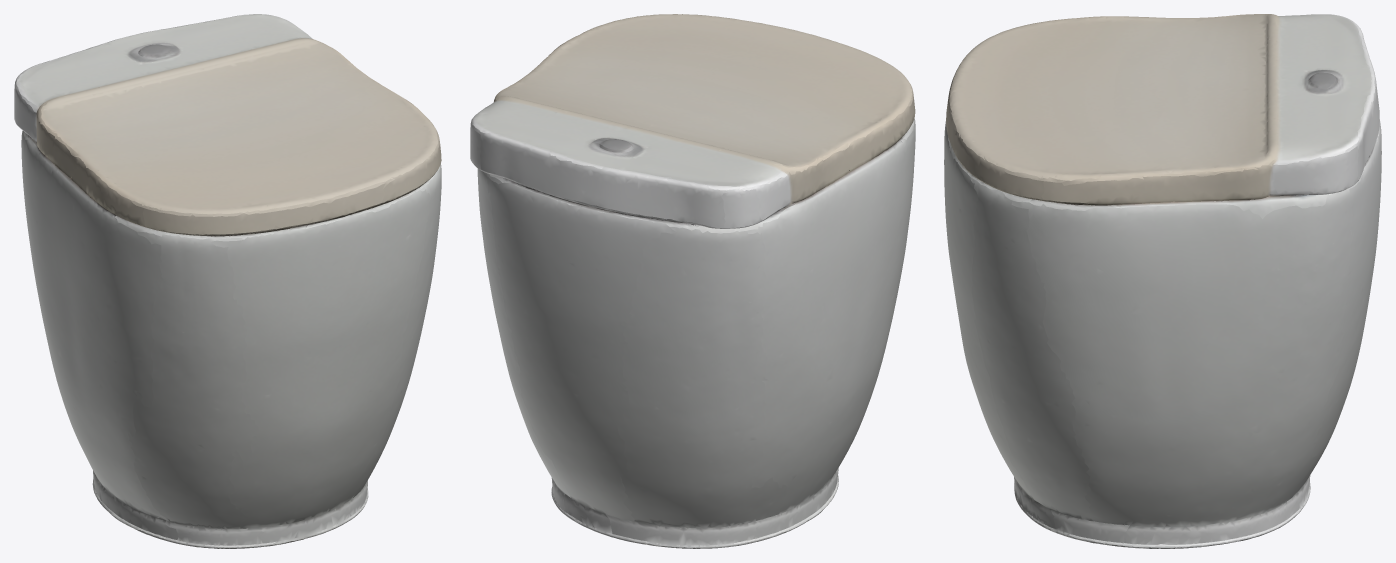
The model's file is item_e8fb5bd5.glb.
3 renders of one model, left to right at view 1: azimuth 30°, elevation 25°; view 2: azimuth 150°, elevation 25°; view 3: azimuth 270°, elevation 25°, orthographic. The views are drawn at different scales.
Visible parts, largest first — view 1: world; view 2: world; view 3: world.
Boxes of the visible parts, box(x1,y1,x2,y2) form: world: box(14, 14, 441, 548); world: box(470, 14, 915, 548); world: box(944, 14, 1381, 548).
Size of the model in its own units: 0.65 by 0.7359 by 0.7084.
Materials: 1 (1 with a texture image).
